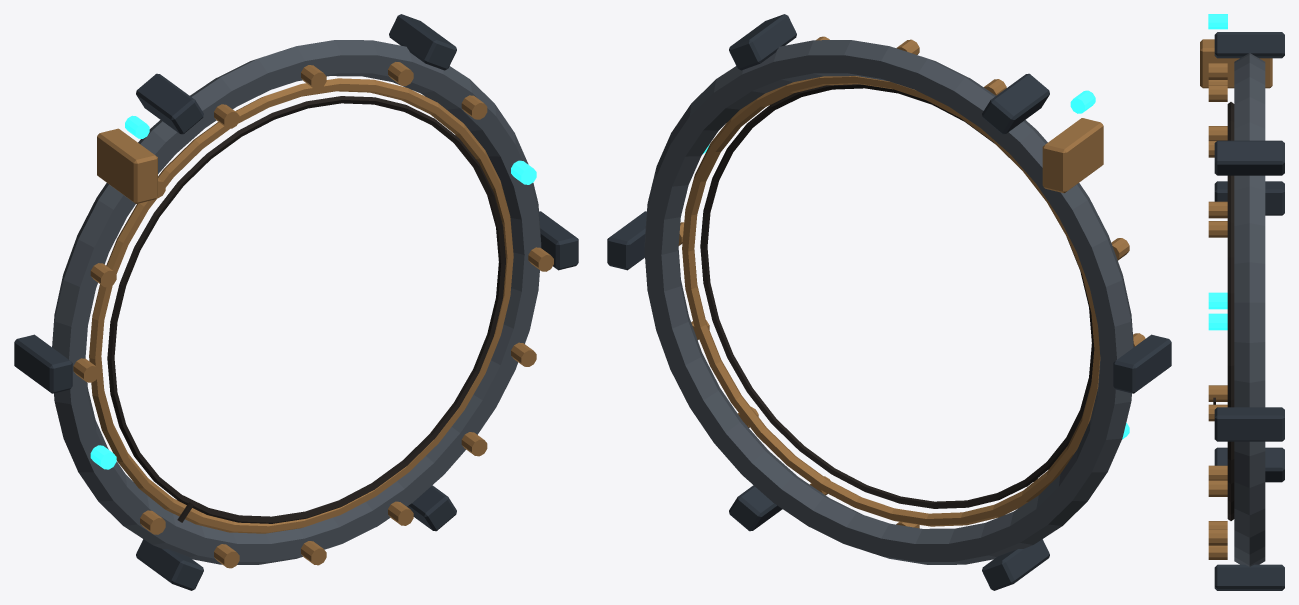
File: runtime.glb
The picture shows the model from 3 angles, left to right: view 1: azimuth 30°, elevation 25°; view 2: azimuth 150°, elevation 25°; view 3: azimuth 270°, elevation 25°; orthographic projection. The views are drawn at different scales.
Visible parts, largest first — view 1: kinetic-tide-bearing-flange-v10_plate_nocol, kinetic-tide-bearing-flange-v10_bronze_nocol, kinetic-tide-bearing-flange-v10_steel_nocol, kinetic-tide-bearing-flange-v10_weardark_nocol, kinetic-tide-bearing-flange-v10_cyansignal_nocol; view 2: kinetic-tide-bearing-flange-v10_plate_nocol, kinetic-tide-bearing-flange-v10_bronze_nocol, kinetic-tide-bearing-flange-v10_steel_nocol, kinetic-tide-bearing-flange-v10_weardark_nocol; view 3: kinetic-tide-bearing-flange-v10_plate_nocol, kinetic-tide-bearing-flange-v10_steel_nocol, kinetic-tide-bearing-flange-v10_bronze_nocol, kinetic-tide-bearing-flange-v10_weardark_nocol, kinetic-tide-bearing-flange-v10_cyansignal_nocol.
Part boxes in pixels (x1,y1,x2,y2): kinetic-tide-bearing-flange-v10_plate_nocol: (52, 40, 541, 564); kinetic-tide-bearing-flange-v10_bronze_nocol: (73, 62, 553, 568); kinetic-tide-bearing-flange-v10_steel_nocol: (14, 14, 578, 590); kinetic-tide-bearing-flange-v10_weardark_nocol: (107, 96, 505, 523); kinetic-tide-bearing-flange-v10_cyansignal_nocol: (90, 115, 536, 469); kinetic-tide-bearing-flange-v10_plate_nocol: (644, 40, 1133, 564); kinetic-tide-bearing-flange-v10_bronze_nocol: (678, 36, 1145, 528); kinetic-tide-bearing-flange-v10_steel_nocol: (607, 14, 1171, 590); kinetic-tide-bearing-flange-v10_weardark_nocol: (700, 84, 1094, 508); kinetic-tide-bearing-flange-v10_plate_nocol: (1234, 53, 1265, 566); kinetic-tide-bearing-flange-v10_steel_nocol: (1214, 32, 1284, 590); kinetic-tide-bearing-flange-v10_bronze_nocol: (1200, 39, 1272, 559); kinetic-tide-bearing-flange-v10_weardark_nocol: (1213, 102, 1234, 520); kinetic-tide-bearing-flange-v10_cyansignal_nocol: (1208, 14, 1227, 330).
Bounding box in the file's own units: 7.21 × 6.68 × 1.09.
